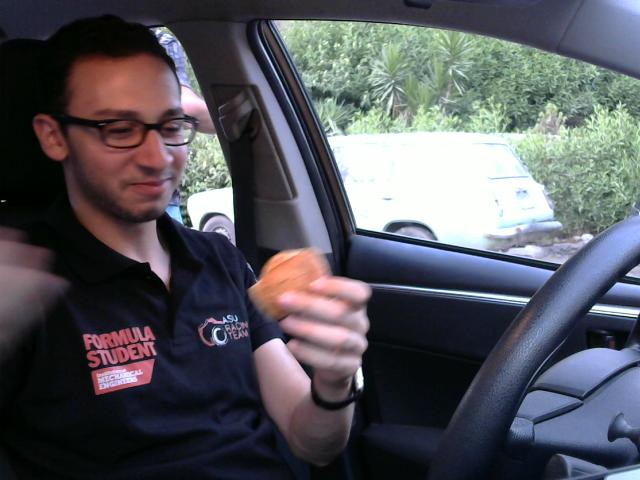Eating: (246, 243, 340, 320)
